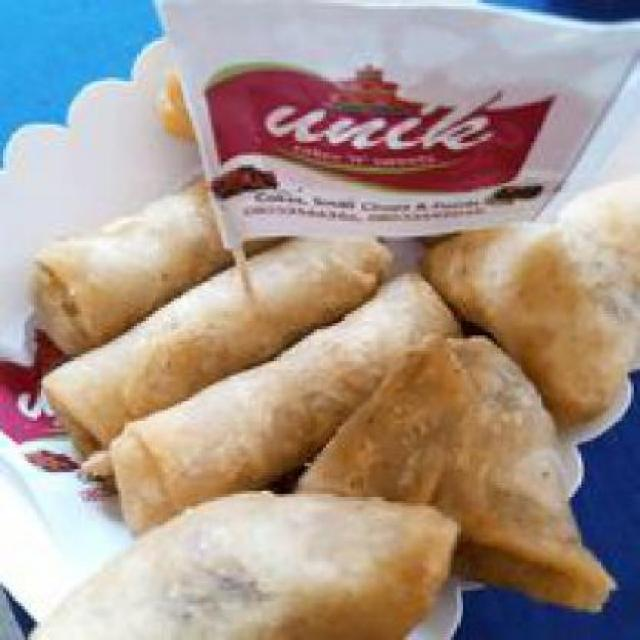samosa: (422, 202, 628, 576), (49, 500, 423, 634)
spring rolls: (34, 170, 408, 482)
